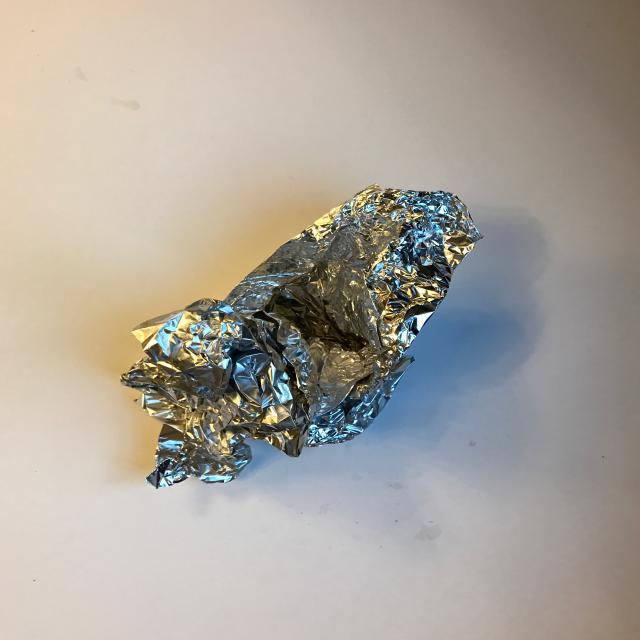metal: (120, 183, 483, 489)
